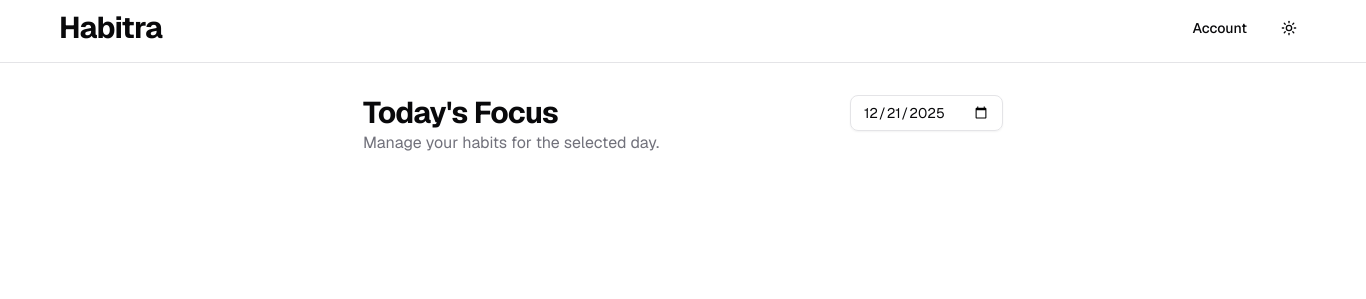
Test: Weekly habits (future feature) › shows weekly habit only on allowed weekdays
This screenshot has width=1366, height=299.
Step 1. Type "2024-01-01" into the date field → (927, 113), box top-left (850, 95), bottom-right (1003, 131)
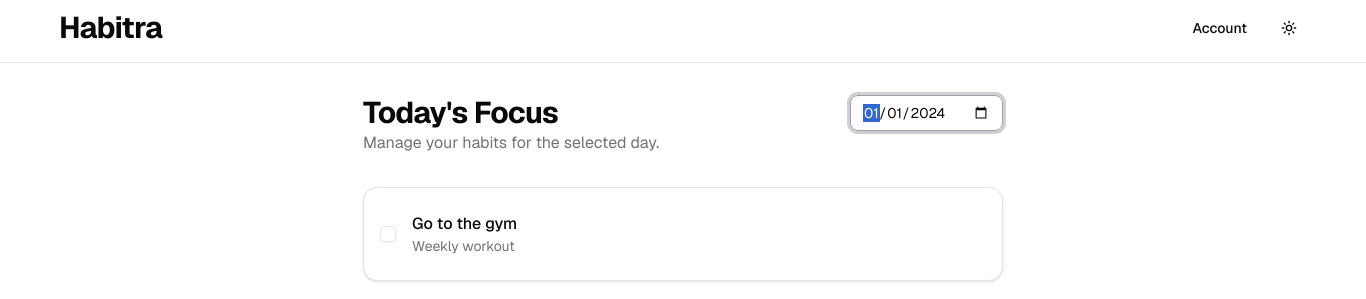
expect the text "Go to the gym" is shown: met, box top-left (412, 212), bottom-right (517, 236)
Step 2. Type "2024-01-02" into the date field → (927, 113), box top-left (850, 95), bottom-right (1003, 131)
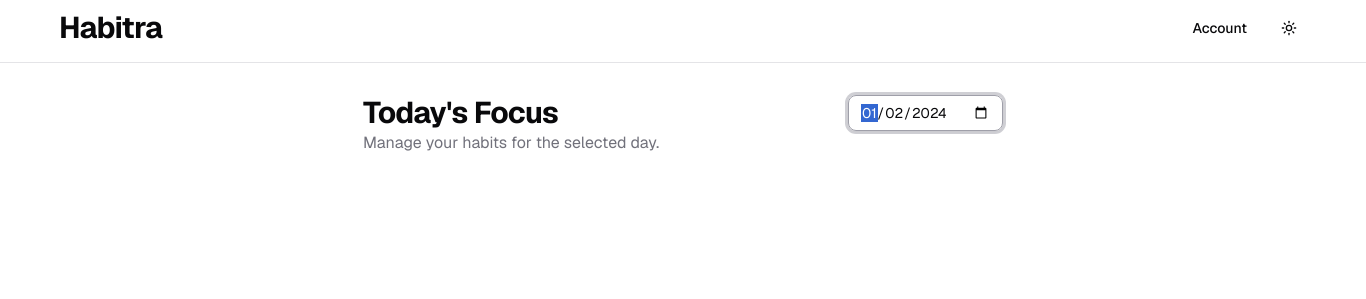
expect the text "Go to the gym" is gone: met
